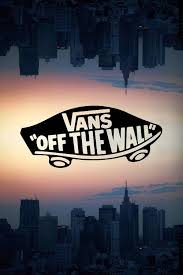vans: (61, 108, 112, 132)
